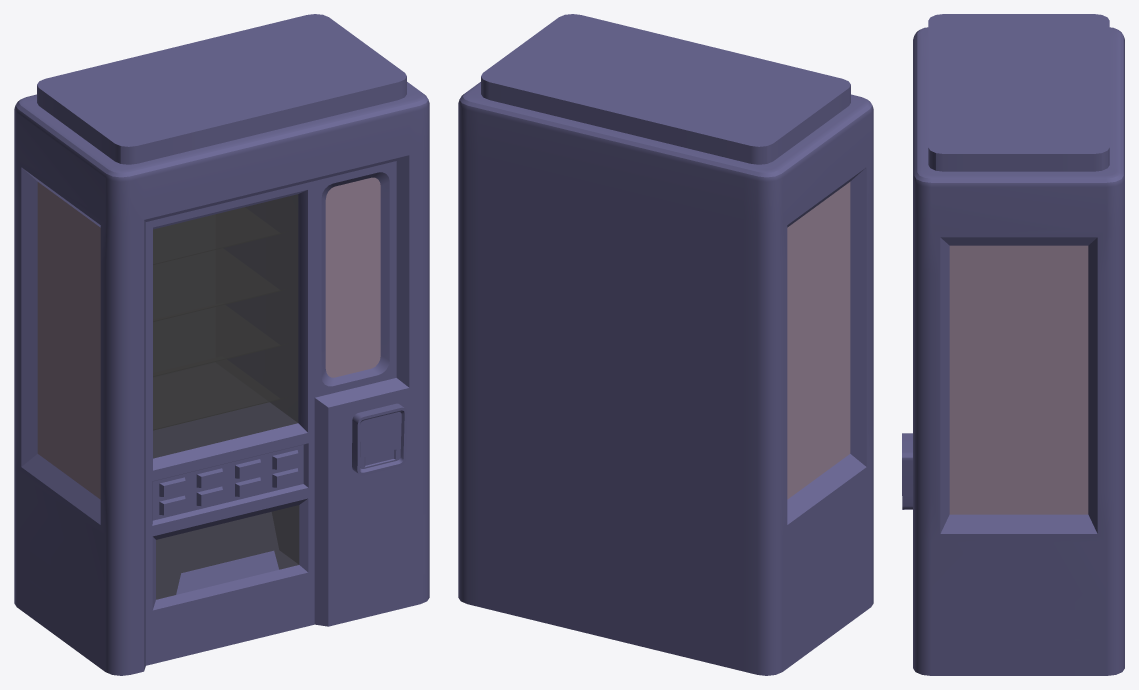
Rendered from SM_VendingMachine_01.fbx.
The picture shows the model from 3 angles, left to right: view 1: azimuth 30°, elevation 25°; view 2: azimuth 150°, elevation 25°; view 3: azimuth 270°, elevation 25°; orthographic projection.
Parts seen in each view (by area): view 1: polySurface521; view 2: polySurface521; view 3: polySurface521.
Boxes of the visible parts, x1,y1,x2,y2 form: polySurface521: [14, 14, 429, 675]; polySurface521: [458, 14, 873, 675]; polySurface521: [902, 14, 1124, 675].
Bounding box in the file's own units: 154 × 237 × 93.15.
